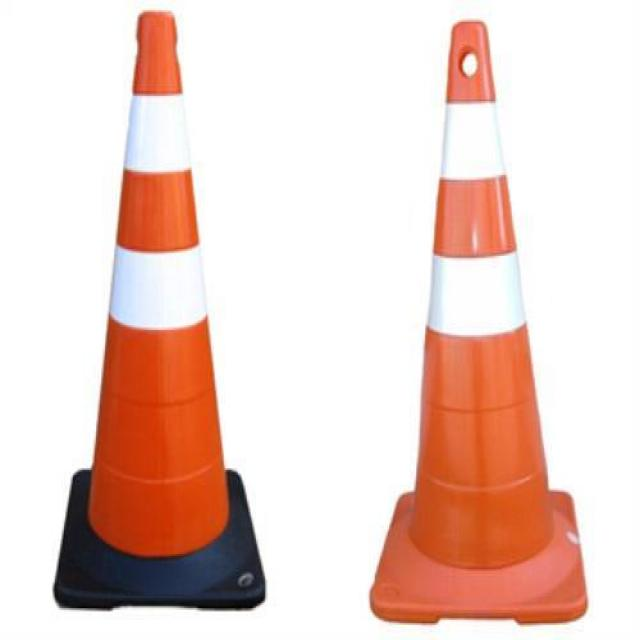cone: (358, 0, 592, 617), (53, 4, 279, 609)
